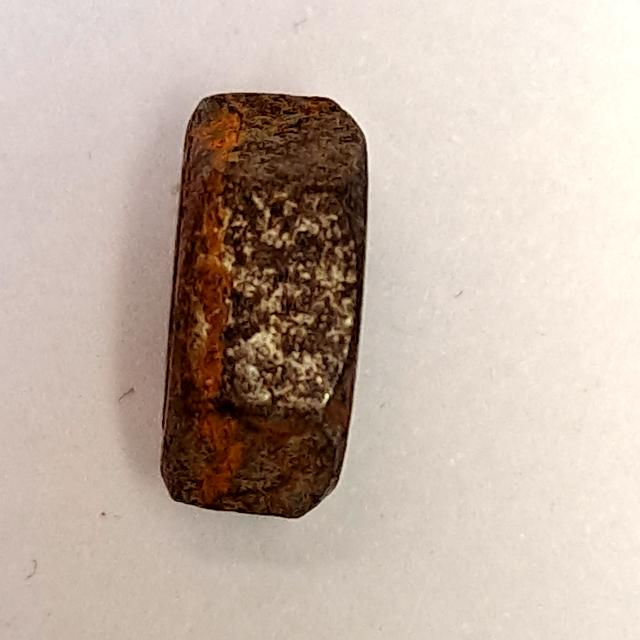Side_Rust: (139, 79, 395, 545)
